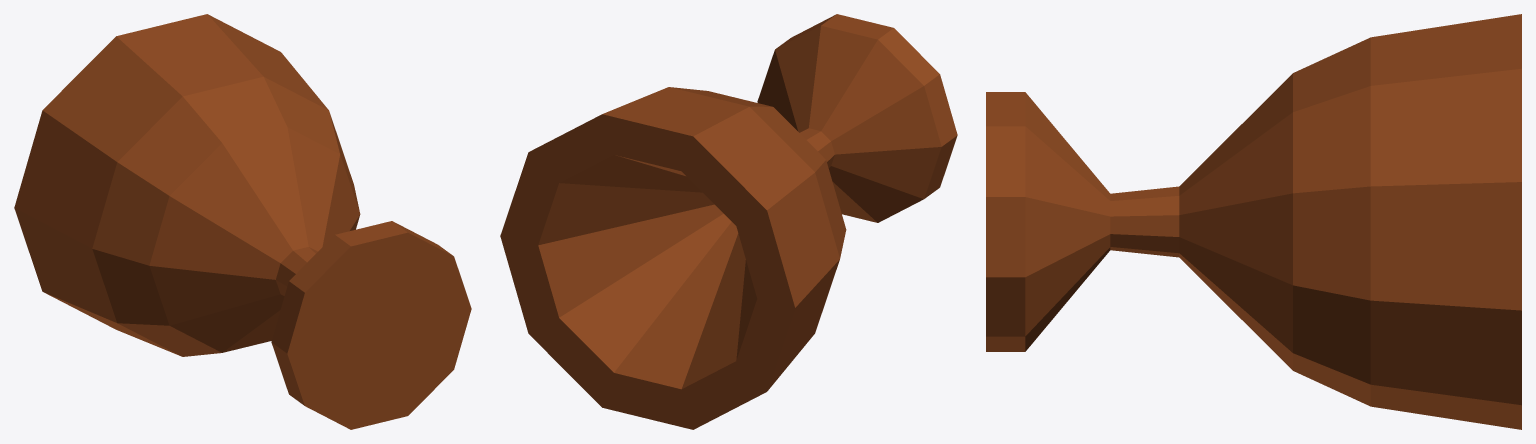
File: Cup_Bronze.fbx
3 renders of one model, left to right at view 1: azimuth 30°, elevation 25°; view 2: azimuth 150°, elevation 25°; view 3: azimuth 270°, elevation 25°, orthographic. The views are drawn at different scales.
Parts seen in each view (by area): view 1: Cup_Bronze; view 2: Cup_Bronze; view 3: Cup_Bronze.
Boxes of the visible parts, x1,y1,x2,y2 form: Cup_Bronze: (14, 14, 471, 429); Cup_Bronze: (500, 14, 957, 429); Cup_Bronze: (986, 14, 1521, 429).
Bounding box in the file's own units: 64.28 × 61.14 × 82.21.
